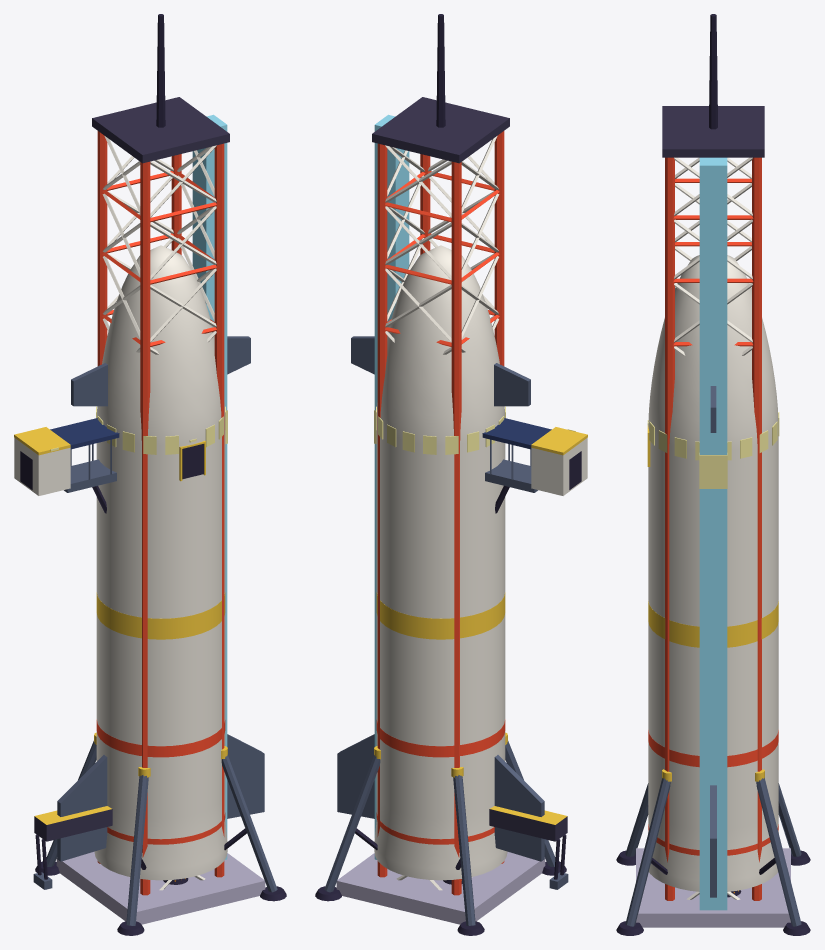
Rendered from rocket.glb.
3 renders of one model, left to right at view 1: azimuth 30°, elevation 25°; view 2: azimuth 150°, elevation 25°; view 3: azimuth 270°, elevation 25°, orthographic.
Parts seen in each view (by area): view 1: rocket_ship, rocket_gantry, rocket_ship_steel_18, rocket_ship_steel_14; view 2: rocket_ship, rocket_gantry, rocket_ship_steel_22, rocket_ship_steel_26; view 3: rocket_ship, rocket_gantry, rocket_ship_steel_14, rocket_ship_steel_26, rocket_ship_steel_18, rocket_ship_steel_22.
Part boxes in pixels (x1=…): rocket_ship: x1=57, y1=245, x2=264, y2=884; rocket_gantry: x1=14, y1=14, x2=265, y2=924; rocket_ship_steel_18: x1=126, y1=775, x2=148, y2=925; rocket_ship_steel_14: x1=221, y1=755, x2=277, y2=892; rocket_ship: x1=337, y1=245, x2=544, y2=884; rocket_gantry: x1=336, y1=14, x2=587, y2=924; rocket_ship_steel_22: x1=453, y1=775, x2=475, y2=925; rocket_ship_steel_26: x1=324, y1=755, x2=380, y2=892; rocket_ship: x1=647, y1=255, x2=779, y2=897; rocket_gantry: x1=636, y1=14, x2=790, y2=927; rocket_ship_steel_14: x1=625, y1=778, x2=670, y2=926; rocket_ship_steel_26: x1=756, y1=778, x2=801, y2=926; rocket_ship_steel_18: x1=625, y1=783, x2=648, y2=856; rocket_ship_steel_22: x1=778, y1=783, x2=801, y2=856.
Size of what is drawn, in the model's own units: 17.86 by 62.7 by 12.55.
